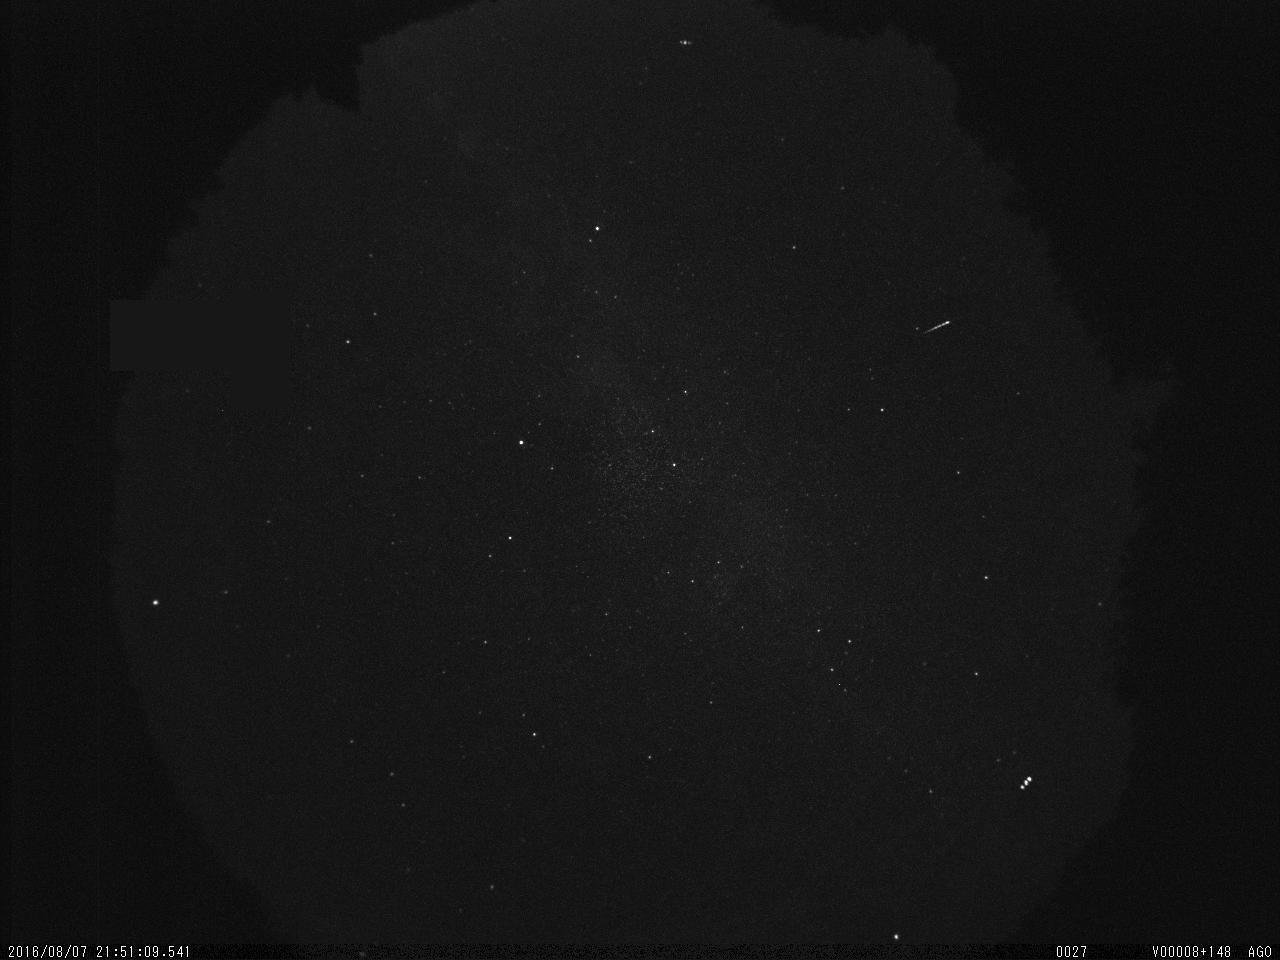meteor: (921, 312, 958, 341)
satelite: (1017, 770, 1035, 799), (673, 35, 700, 49)
